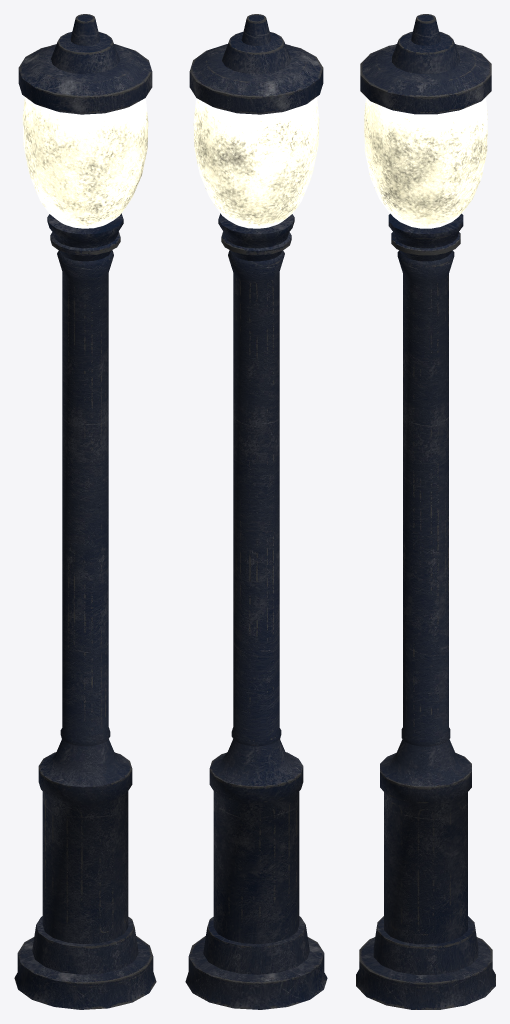
The model's file is central_park_lamppost.glb.
3 views of the same model, side by side, from view 1: azimuth 30°, elevation 25°; view 2: azimuth 150°, elevation 25°; view 3: azimuth 270°, elevation 25° (orthographic).
Parts seen in each view (by area): view 1: Lamppost_low; view 2: Lamppost_low; view 3: Lamppost_low.
Part boxes in pixels (x1,y1,x2,y2): Lamppost_low: (14, 14, 156, 1009); Lamppost_low: (185, 14, 327, 1009); Lamppost_low: (356, 14, 495, 1009).
Size of the model in its own units: 0.2633 by 2 by 0.2633.
1 material, 1 textured.
